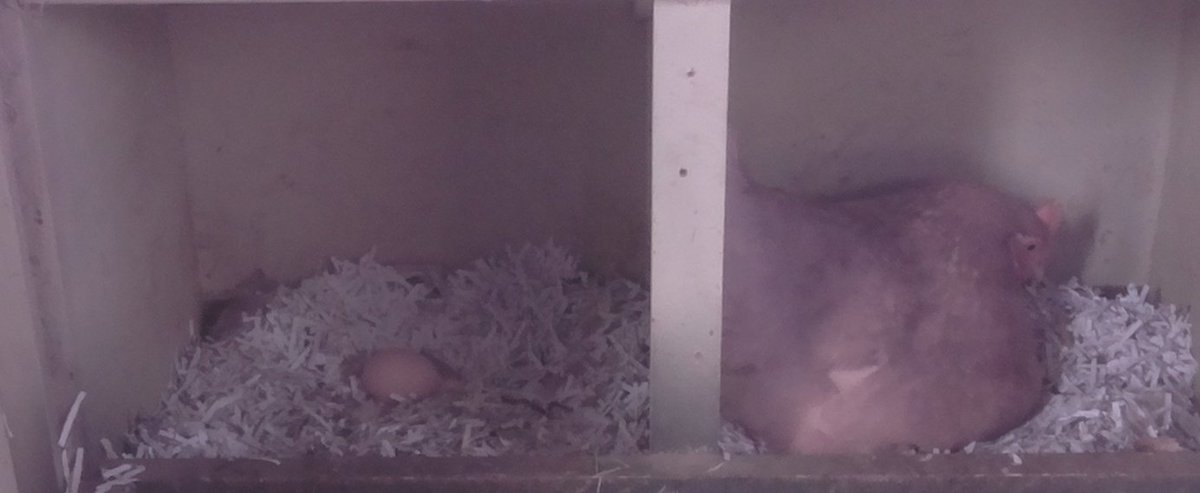egg: (355, 347, 446, 403)
hen: (727, 187, 1074, 448)
